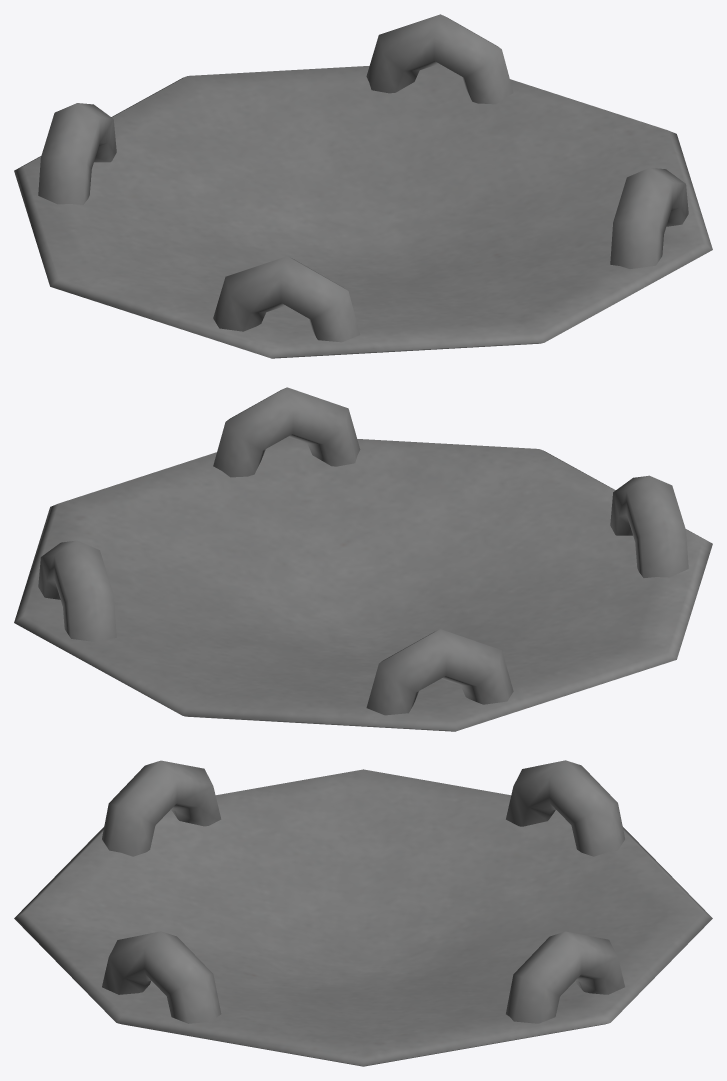
File: MOD_BrazierPlate.fbx
3 views of the same model, one above another, from view 1: azimuth 30°, elevation 25°; view 2: azimuth 150°, elevation 25°; view 3: azimuth 270°, elevation 25° (orthographic). The views are drawn at different scales.
Parts seen in each view (by area): view 1: MOD_BrazierPlate; view 2: MOD_BrazierPlate; view 3: MOD_BrazierPlate.
Boxes of the visible parts, x1,y1,x2,y2 form: MOD_BrazierPlate: (14, 14, 712, 358); MOD_BrazierPlate: (14, 387, 712, 731); MOD_BrazierPlate: (14, 760, 712, 1066).
Size of the model in its own units: 55.89 by 11.26 by 55.89.
Materials: 1 (1 with a texture image).
